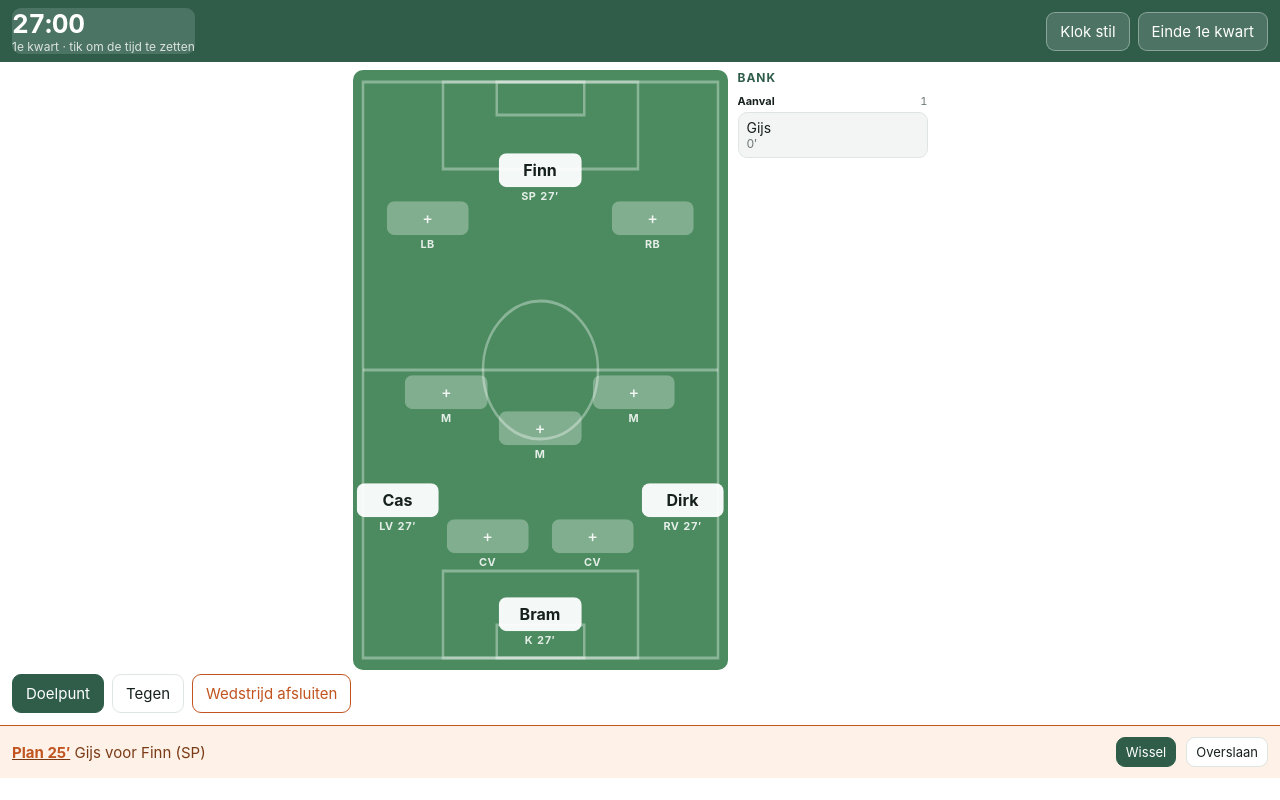
Test: het wisselplan tijdens de wedstrijd › wisselt met één tik, als het moment er is
Click the button "Wissel" at (1146, 752), box [1116,737,1176,767]
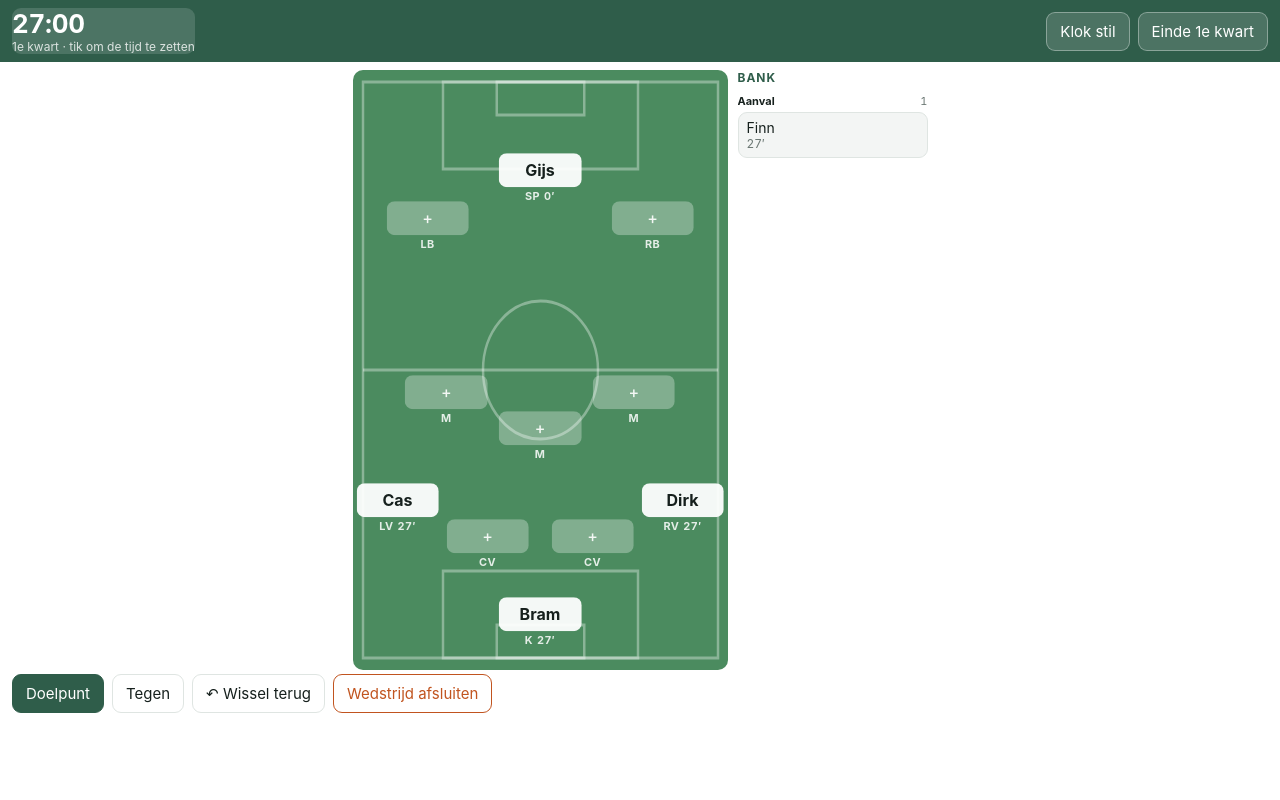
expect the element with class "melding" is gone: met
